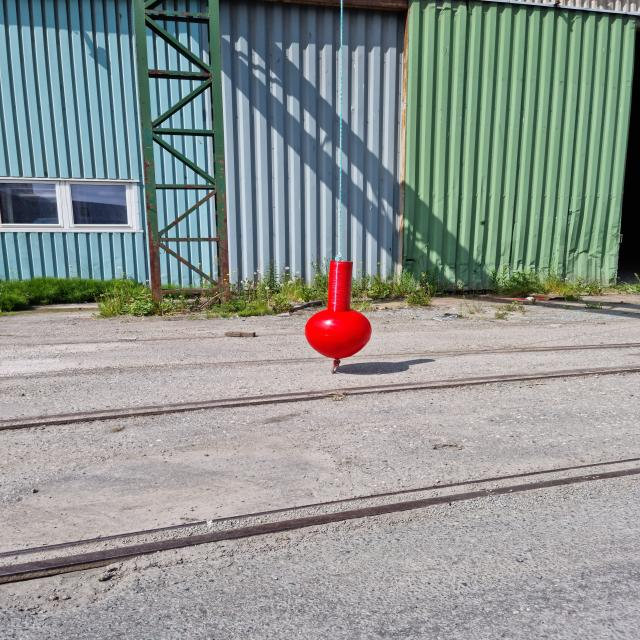red: (304, 261, 371, 358)
